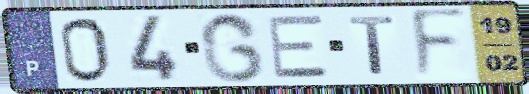0: (57, 15, 114, 84)
4: (125, 12, 181, 85)
E: (264, 13, 334, 80)
F: (408, 6, 471, 84)
G: (197, 10, 268, 84)
T: (346, 14, 399, 77)
